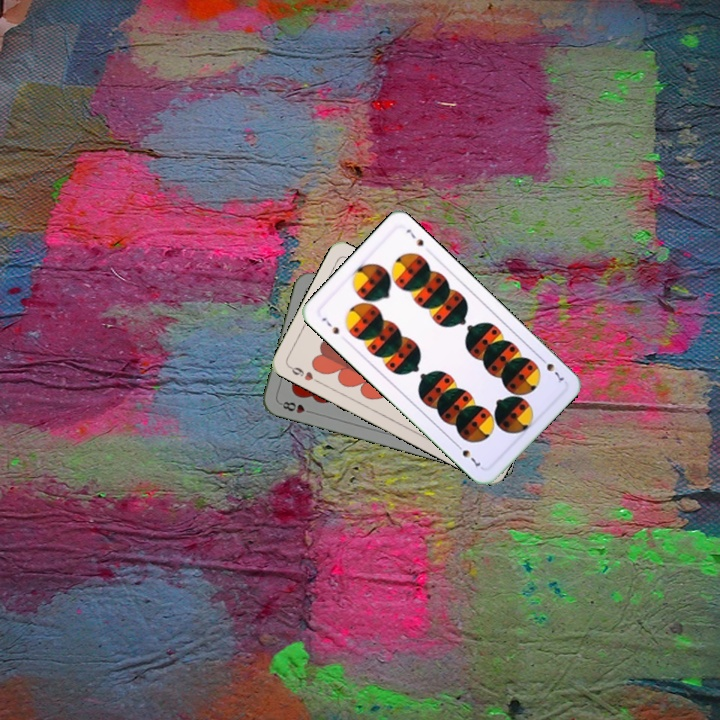H8: (276, 397, 316, 416)
H9: (285, 362, 323, 386)
S7: (535, 352, 566, 386), (317, 313, 342, 337)
